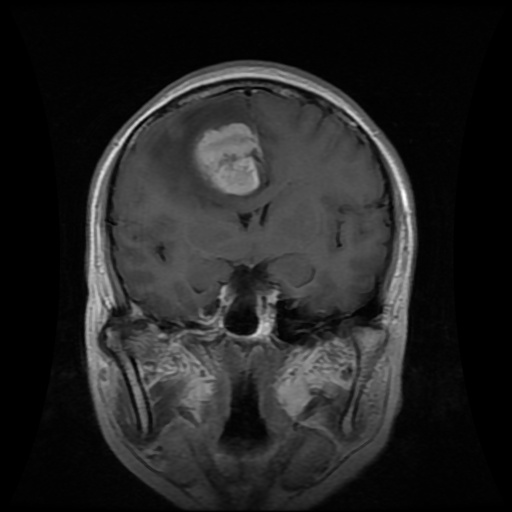meningioma: (193, 122, 262, 196)
